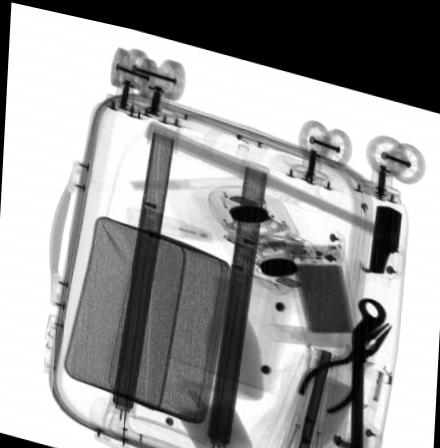Hammer: (145, 112, 402, 256)
Pliers: (296, 301, 395, 400)
Powerbank: (283, 228, 362, 331)
Wrench: (343, 280, 386, 448)
